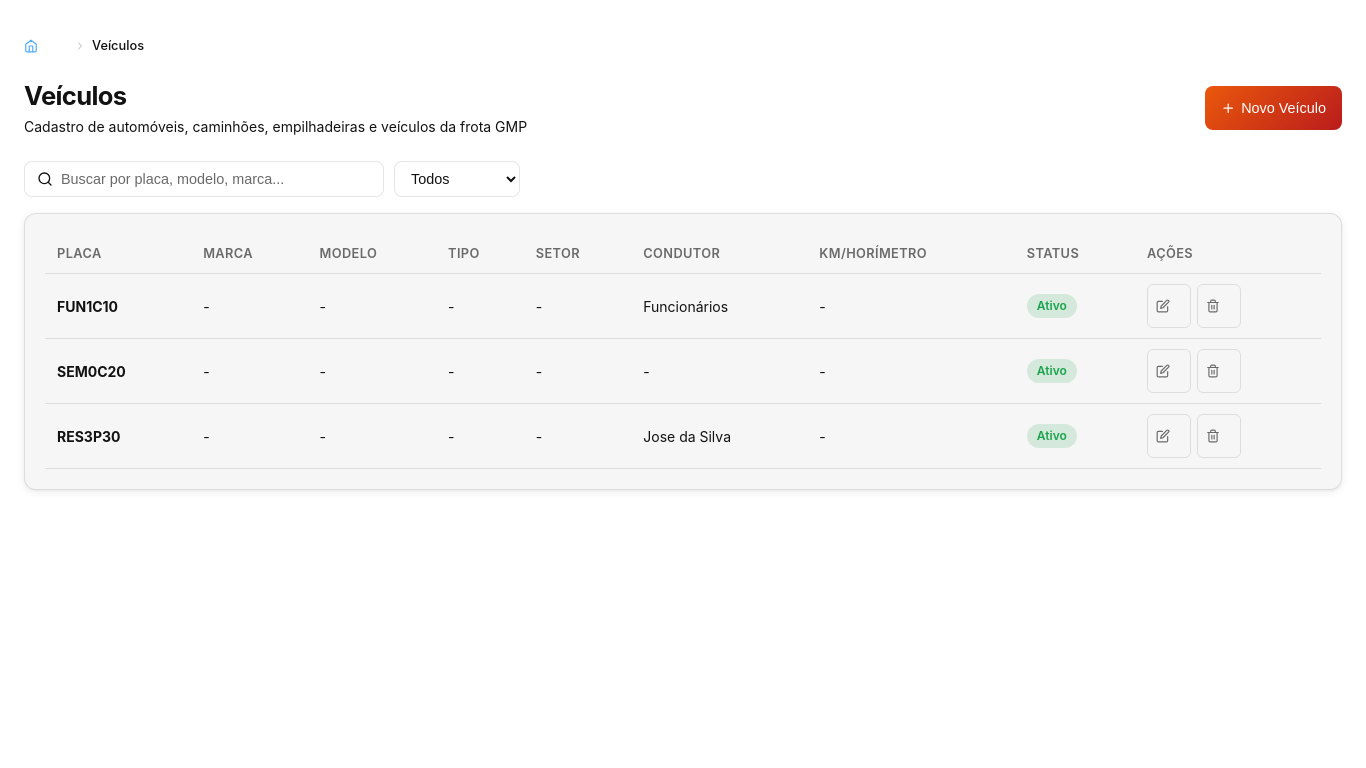
RN-F8.25 — Veiculos: Liberado para funcionarios › Editar um veiculo liberado abre com a caixa marcada
Click the button titled "Editar" in the row of "FUN1C10": point(1169, 306) [1147,284,1191,328]
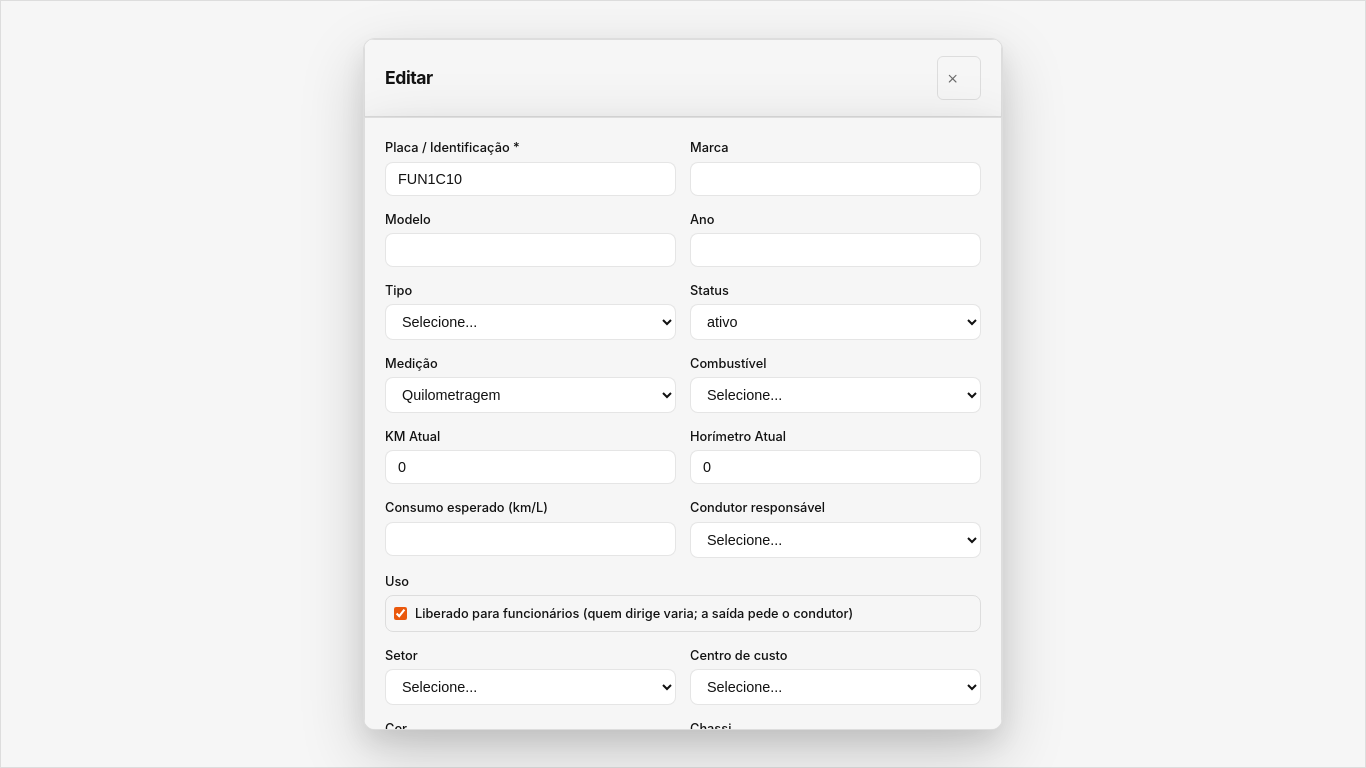
expect the checkbox is checked: met, box [394,607,407,620]
